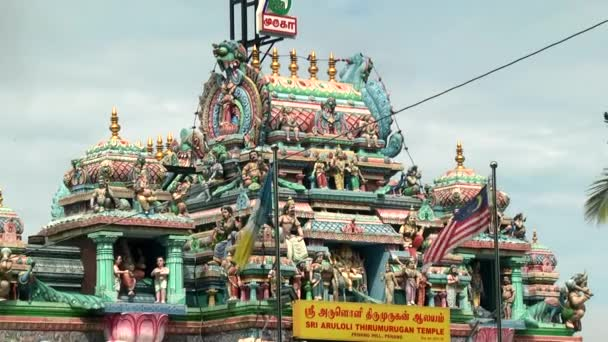Hindu Temple: (10, 19, 563, 342)
